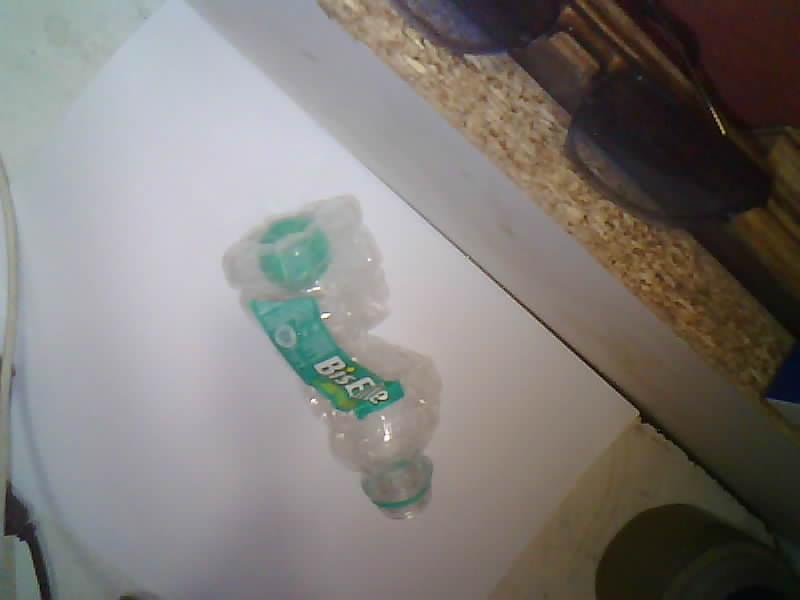non-biodegradable: (223, 196, 440, 518)
